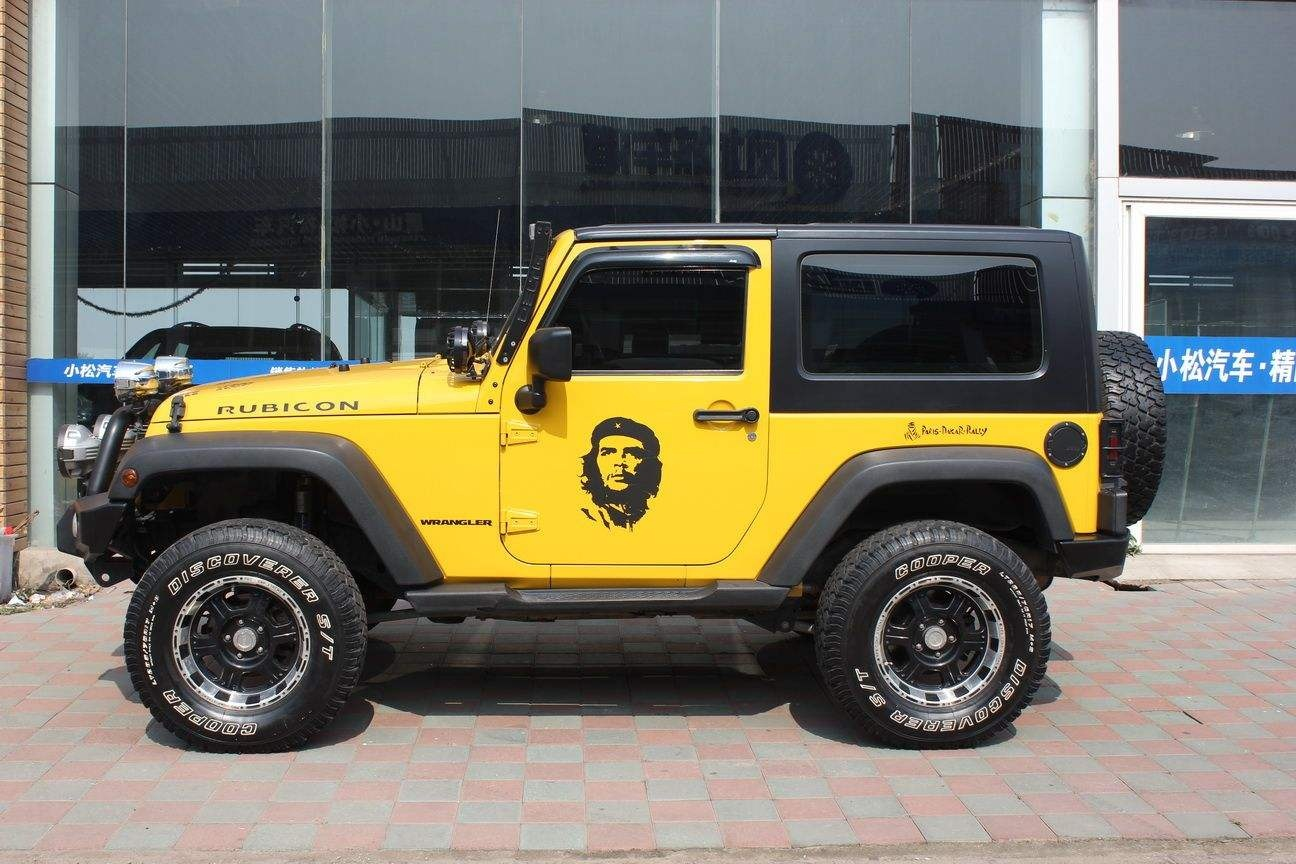jeep: (119, 184, 1175, 760)
